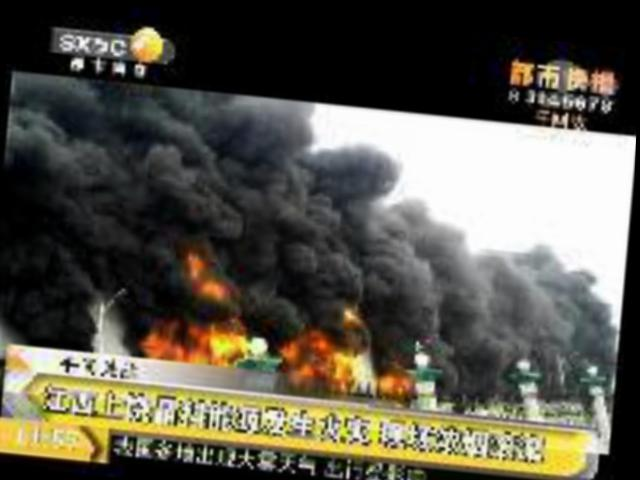fire: (140, 311, 243, 361), (277, 323, 357, 378), (191, 271, 227, 296), (376, 365, 409, 387), (186, 247, 204, 277)
